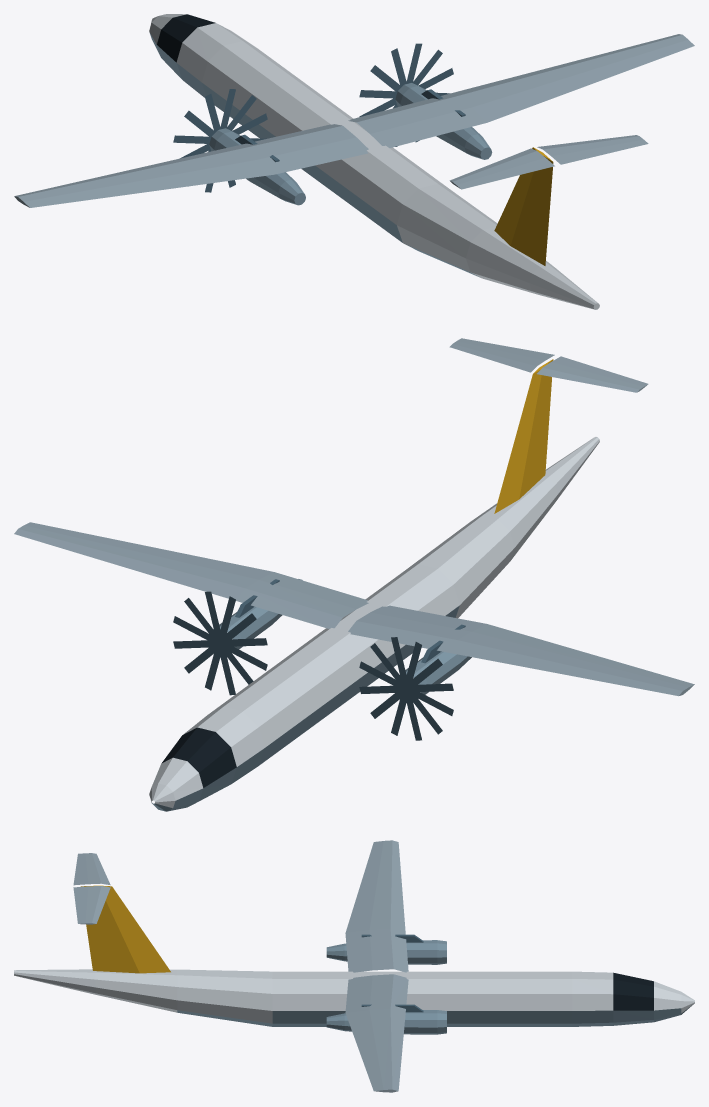
The picture shows the model from 3 angles, top to bottom: view 1: azimuth 30°, elevation 25°; view 2: azimuth 150°, elevation 25°; view 3: azimuth 270°, elevation 25°; orthographic projection. The views are drawn at different scales.
Parts seen in each view (by area): view 1: lod0; view 2: lod0; view 3: lod0.
Part boxes in pixels (x1,y1,x2,y2): lod0: (14, 14, 694, 309); lod0: (14, 338, 694, 811); lod0: (14, 840, 694, 1092).
Size of what is drawn, in the model's own units: 0.8658 by 0.2278 by 1.
